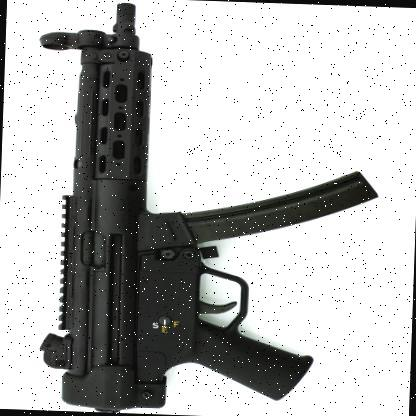rifle: (6, 21, 380, 416)
